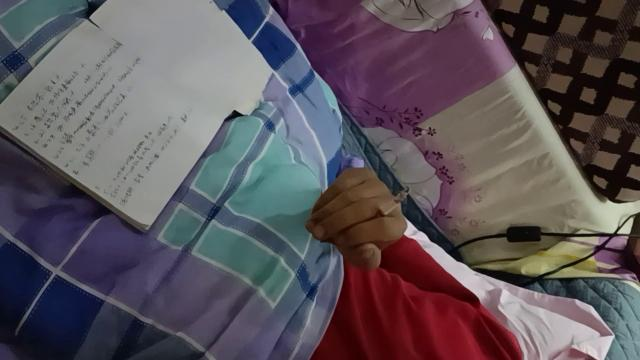Cigarette: (371, 187, 411, 223)
